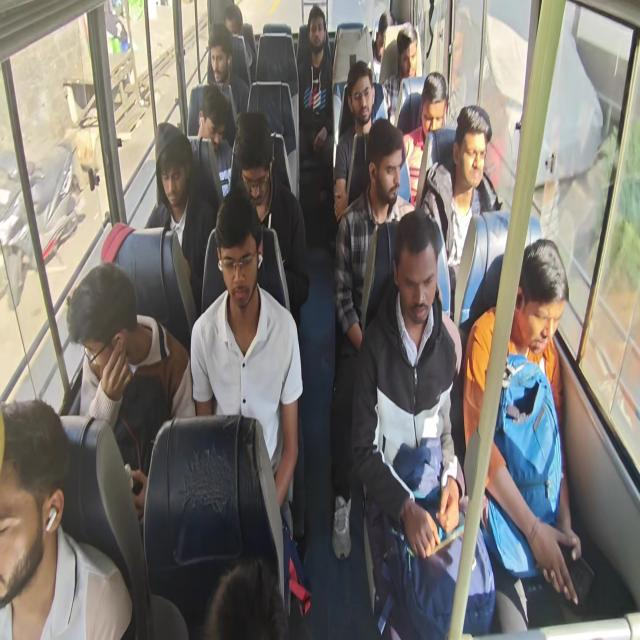person: (0, 397, 65, 604), (72, 262, 136, 368), (509, 248, 563, 358), (398, 219, 439, 317), (215, 216, 258, 308), (452, 111, 490, 192), (235, 121, 271, 202), (152, 125, 184, 211), (375, 139, 404, 207), (421, 79, 450, 141), (196, 96, 228, 148), (352, 79, 382, 130), (204, 36, 231, 84), (215, 5, 250, 39), (303, 8, 332, 49), (374, 21, 398, 61), (400, 31, 417, 78)
